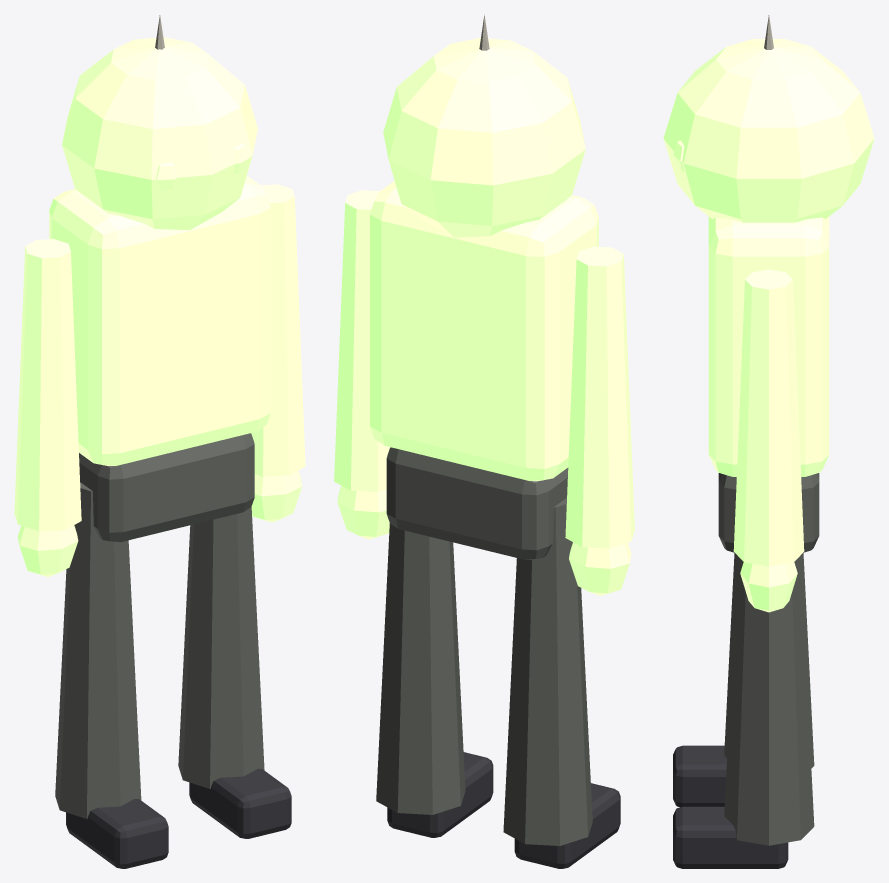
The model's file is mutant_contaminated.glb.
3 renders of one model, left to right at view 1: azimuth 30°, elevation 25°; view 2: azimuth 150°, elevation 25°; view 3: azimuth 270°, elevation 25°, orthographic. The views are drawn at different scales.
Visible parts, largest first — view 1: mut_contaminated_torso, mut_contaminated_head, mut_contaminated_leg_l, mut_contaminated_leg_r, mut_contaminated_arm_l, mut_contaminated_pelvis, mut_contaminated_arm_r, mut_contaminated_foot_l, mut_contaminated_foot_r, mut_contaminated_hand_l, mut_contaminated_hand_r; view 2: mut_contaminated_torso, mut_contaminated_head, mut_contaminated_leg_l, mut_contaminated_leg_r, mut_contaminated_arm_l, mut_contaminated_pelvis, mut_contaminated_arm_r, mut_contaminated_foot_r, mut_contaminated_foot_l, mut_contaminated_hand_l, mut_contaminated_hand_r; view 3: mut_contaminated_head, mut_contaminated_torso, mut_contaminated_leg_r, mut_contaminated_arm_r, mut_contaminated_foot_r, mut_contaminated_foot_l, mut_contaminated_pelvis, mut_contaminated_hand_r, mut_contaminated_leg_l.
Boxes of the visible parts, x1=… form: mut_contaminated_torso: x1=49, y1=175, x2=270, y2=465; mut_contaminated_head: x1=62, y1=37, x2=257, y2=230; mut_contaminated_leg_l: x1=55, y1=482, x2=141, y2=818; mut_contaminated_leg_r: x1=178, y1=507, x2=264, y2=788; mut_contaminated_arm_l: x1=14, y1=239, x2=81, y2=531; mut_contaminated_pelvis: x1=79, y1=433, x2=254, y2=542; mut_contaminated_arm_r: x1=251, y1=184, x2=305, y2=476; mut_contaminated_foot_l: x1=66, y1=799, x2=168, y2=868; mut_contaminated_foot_r: x1=189, y1=768, x2=291, y2=838; mut_contaminated_hand_l: x1=17, y1=525, x2=78, y2=576; mut_contaminated_hand_r: x1=251, y1=470, x2=302, y2=522; mut_contaminated_torso: x1=370, y1=181, x2=598, y2=481; mut_contaminated_head: x1=383, y1=38, x2=585, y2=237; mut_contaminated_leg_l: x1=503, y1=498, x2=592, y2=845; mut_contaminated_leg_r: x1=376, y1=523, x2=465, y2=814; mut_contaminated_arm_l: x1=565, y1=246, x2=634, y2=548; mut_contaminated_pelvis: x1=386, y1=447, x2=568, y2=559; mut_contaminated_arm_r: x1=334, y1=190, x2=390, y2=492; mut_contaminated_foot_r: x1=387, y1=752, x2=493, y2=837; mut_contaminated_foot_l: x1=514, y1=783, x2=620, y2=868; mut_contaminated_hand_l: x1=569, y1=542, x2=631, y2=595; mut_contaminated_hand_r: x1=337, y1=485, x2=389, y2=539; mut_contaminated_head: x1=663, y1=39, x2=874, y2=222; mut_contaminated_torso: x1=708, y1=216, x2=829, y2=476; mut_contaminated_leg_r: x1=724, y1=555, x2=814, y2=845; mut_contaminated_arm_r: x1=733, y1=269, x2=804, y2=566; mut_contaminated_foot_r: x1=673, y1=806, x2=788, y2=868; mut_contaminated_foot_l: x1=673, y1=745, x2=726, y2=807; mut_contaminated_pelvis: x1=718, y1=473, x2=819, y2=552; mut_contaminated_hand_r: x1=740, y1=562, x2=797, y2=612; mut_contaminated_leg_l: x1=724, y1=553, x2=814, y2=768.
Bounding box in the file's own units: 0.693 × 1.87 × 0.44.
